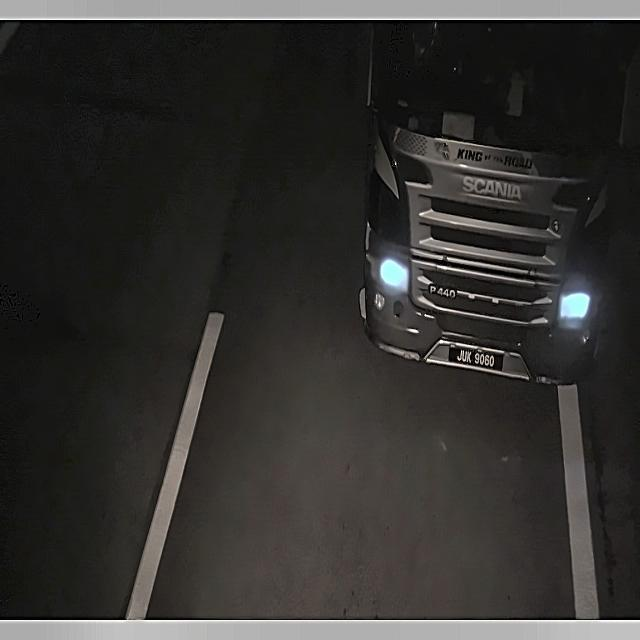car: (447, 342, 504, 375)
